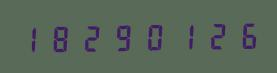eight: (47, 21, 76, 54)
nine: (107, 20, 136, 53)
one: (17, 22, 46, 54), (167, 19, 196, 51)
six: (227, 18, 256, 50)
two: (197, 18, 226, 51), (77, 21, 106, 53)
zero: (137, 20, 166, 52)
